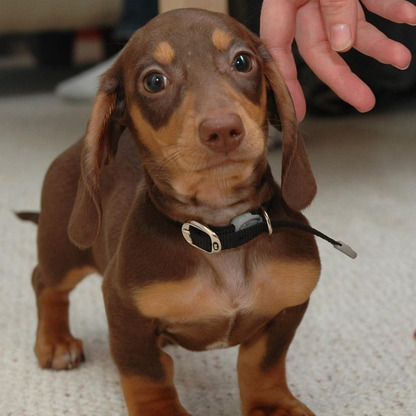dachshund: (36, 19, 356, 394)
